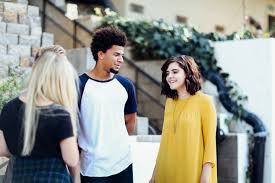Person: (1, 45, 80, 183), (79, 30, 138, 182), (153, 52, 218, 183)
